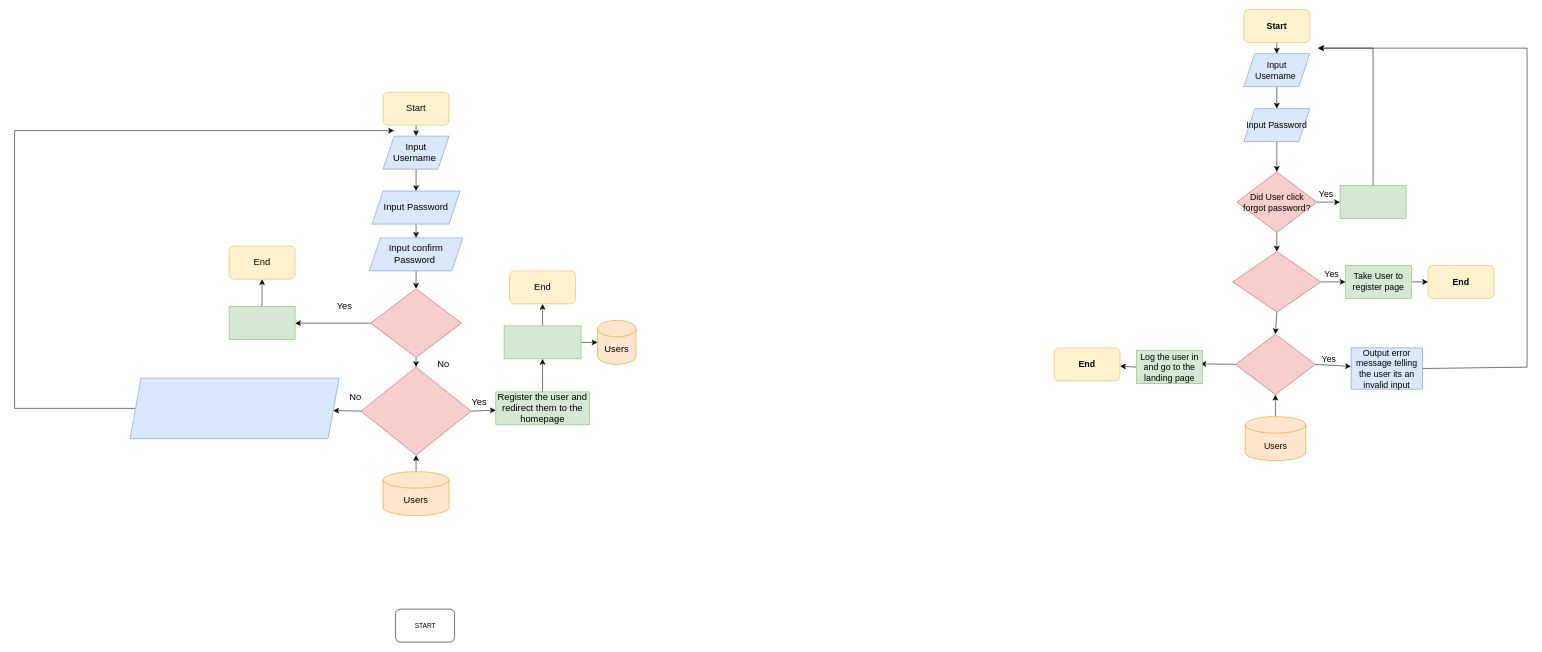
This 1542x652 diagram has some shape labels left out. Each missing label, with the centre of its shape:
"Add user to the database" goes at point (542, 342).
"Are inputs valid and do the passwords match?" goes at point (416, 411).
"Did User click Log in" goes at point (415, 323).
"Did User click register?" goes at point (1276, 281).
"Is Username and Password Correct?" goes at point (1275, 364).
"Output an Error message Telling the user that input was invalid" goes at point (234, 408).
"Send email to reset password" goes at point (1373, 202).
"Take user to log in page" goes at point (262, 323).
